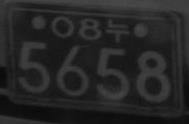0: (51, 14, 74, 39)
5: (96, 46, 130, 101), (18, 40, 50, 95)
6: (56, 44, 89, 98)
8: (136, 49, 171, 104), (78, 17, 102, 41)
누: (106, 18, 129, 43)
